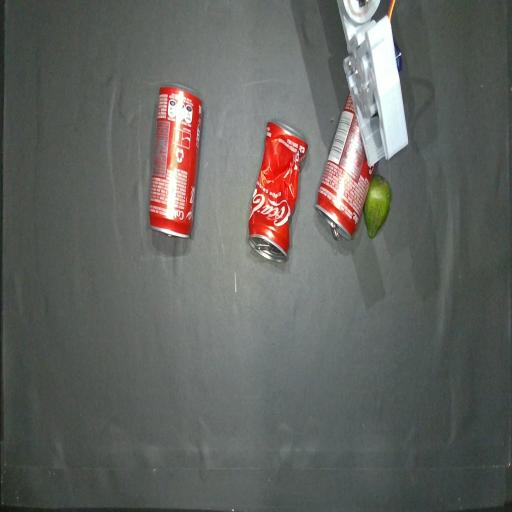higo: (363, 176, 391, 238)
lata: (315, 95, 374, 239), (149, 84, 203, 238)
lata_defectuoso: (249, 121, 308, 262)
